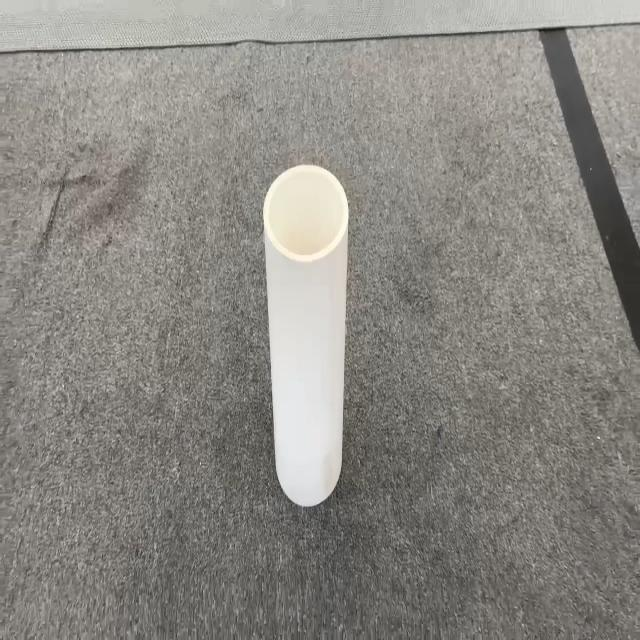coral: (262, 163, 350, 507)
